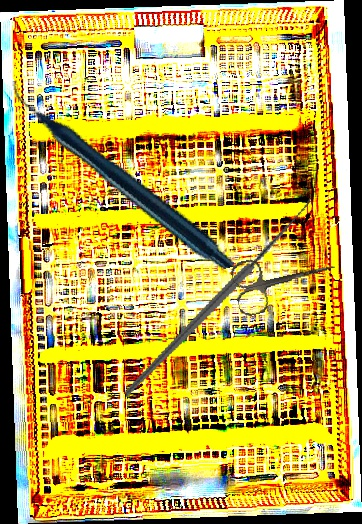Handpiece: (11, 38, 235, 310)
Hook Surgical: (84, 188, 349, 397)
Iris Scissors: (229, 241, 342, 318)
